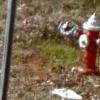Hydrant: (75, 5, 100, 78)
